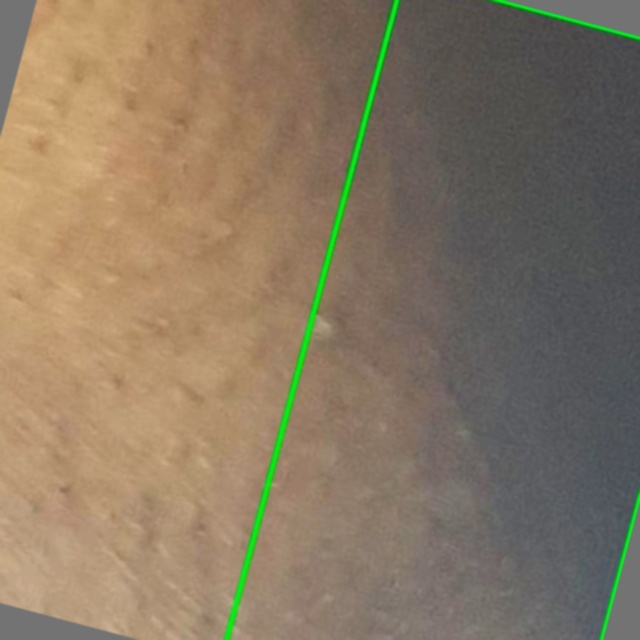Contact Dermatitis: (226, 0, 639, 639)
